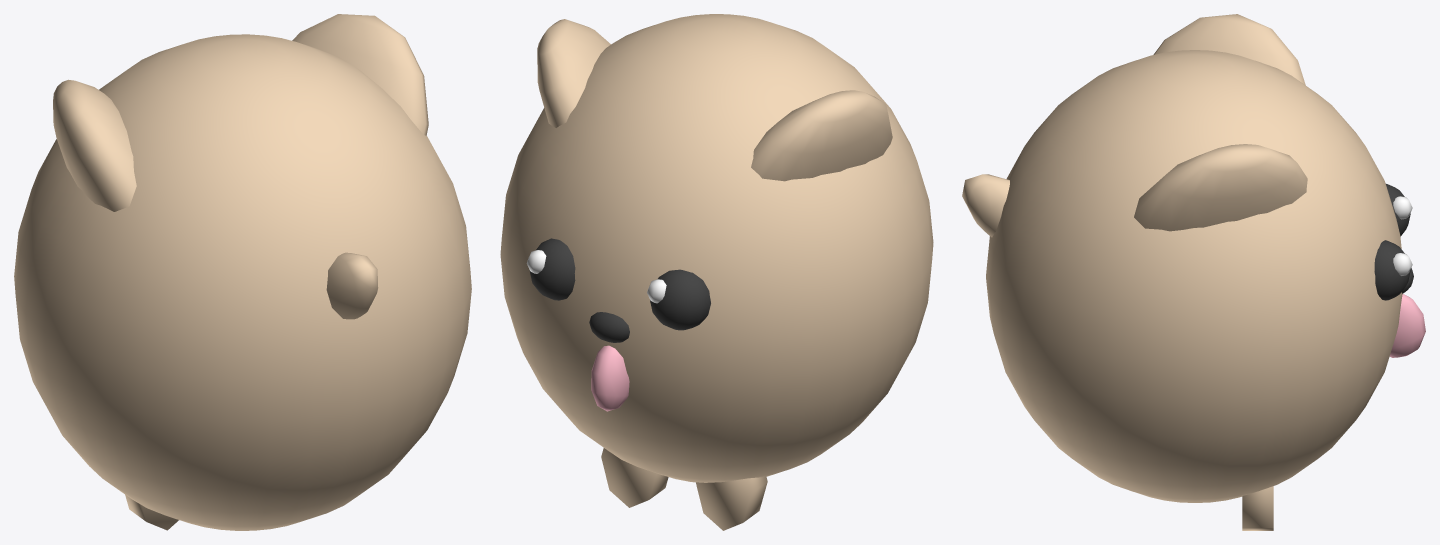
File: Puppy.glb
3 renders of one model, left to right at view 1: azimuth 30°, elevation 25°; view 2: azimuth 150°, elevation 25°; view 3: azimuth 270°, elevation 25°, orthographic. The views are drawn at different scales.
Parts seen in each view (by area): view 1: Puppy, Puppy_Ear_Left, Puppy_Ear_Right, Puppy_Tail, Puppy_Foot_Left; view 2: Puppy, Puppy_Ear_Left, Puppy_Ear_Right, Puppy_Foot_Left, Puppy_Eye_Left, Puppy_Foot_Right, Puppy_Tongue, Puppy_Eye_Right, Puppy_Nose; view 3: Puppy, Puppy_Ear_Right, Puppy_Ear_Left, Puppy_Tail, Puppy_Tongue, Puppy_Eye_Right, Puppy_Foot_Right.
Part boxes in pixels (bbox=[...]): Puppy: bbox=[14, 34, 471, 530]; Puppy_Ear_Left: bbox=[53, 79, 136, 211]; Puppy_Ear_Right: bbox=[292, 14, 428, 135]; Puppy_Tail: bbox=[326, 252, 378, 319]; Puppy_Foot_Left: bbox=[125, 494, 178, 530]; Puppy: bbox=[500, 14, 933, 482]; Puppy_Ear_Left: bbox=[751, 90, 892, 181]; Puppy_Ear_Right: bbox=[537, 19, 610, 127]; Puppy_Foot_Left: bbox=[696, 476, 767, 530]; Puppy_Eye_Left: bbox=[650, 269, 710, 330]; Puppy_Foot_Right: bbox=[601, 448, 668, 507]; Puppy_Tongue: bbox=[591, 345, 629, 411]; Puppy_Eye_Right: bbox=[529, 238, 575, 300]; Puppy_Nose: bbox=[589, 312, 629, 342]; Puppy: bbox=[986, 50, 1402, 502]; Puppy_Ear_Right: bbox=[1134, 144, 1307, 231]; Puppy_Ear_Left: bbox=[1153, 14, 1305, 85]; Puppy_Tail: bbox=[962, 174, 1009, 237]; Puppy_Tongue: bbox=[1389, 294, 1425, 357]; Puppy_Eye_Right: bbox=[1374, 240, 1410, 300]; Puppy_Foot_Right: bbox=[1242, 486, 1273, 530].
Size of the model in its own units: 2 by 2.33 by 2.22.
